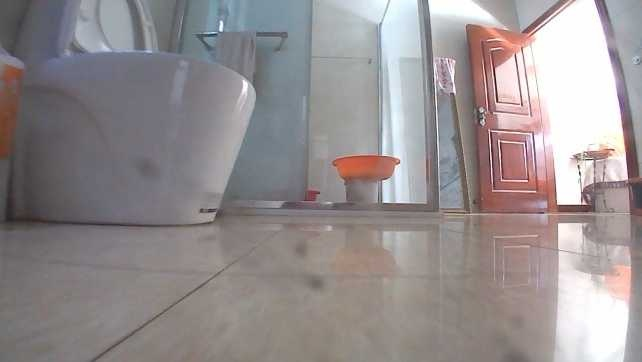door_anno: (462, 19, 562, 214)
toilet: (1, 0, 263, 226)
